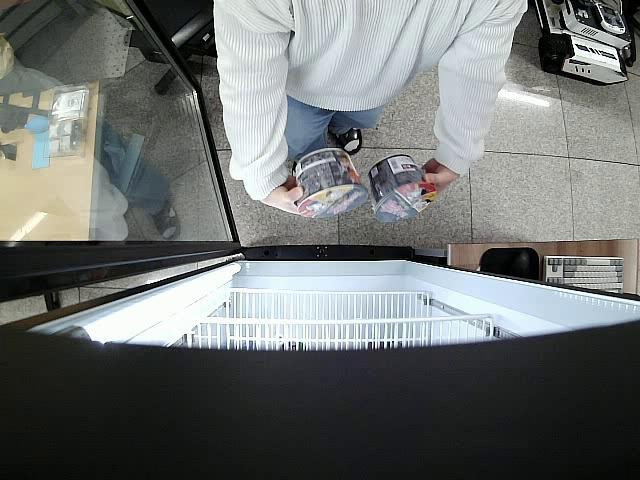07_buldak_L: (293, 146, 367, 220), (368, 155, 438, 221)
